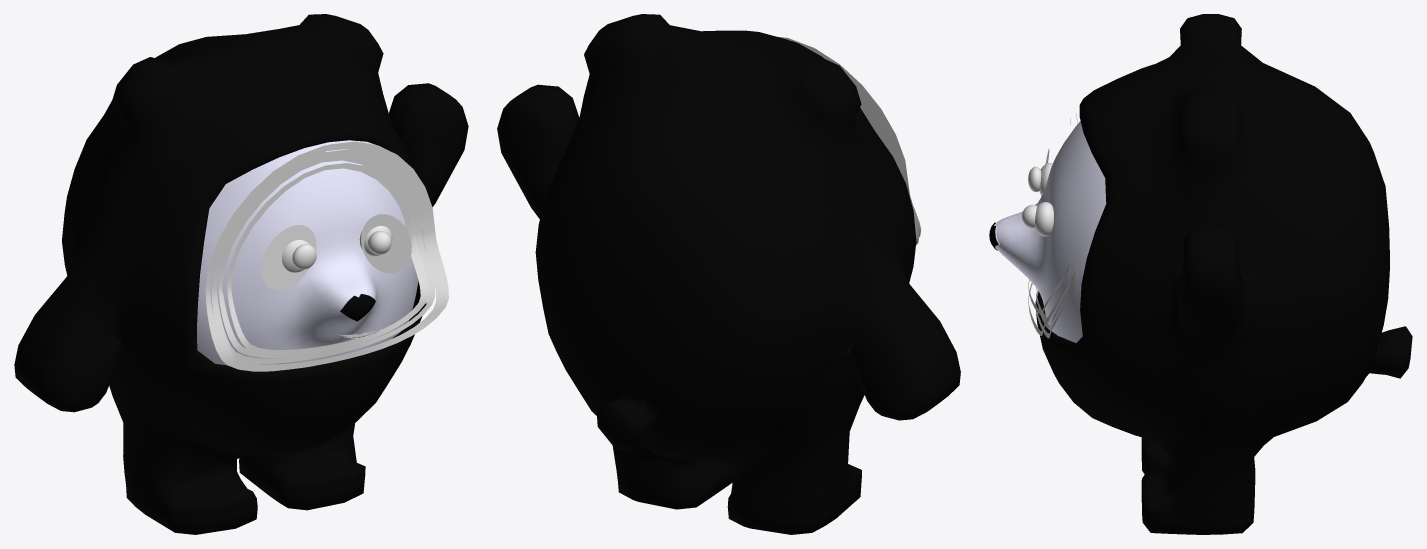
Rendered from 冰墩墩.FBX.
3 renders of one model, left to right at view 1: azimuth 30°, elevation 25°; view 2: azimuth 150°, elevation 25°; view 3: azimuth 270°, elevation 25°, orthographic. The views are drawn at different scales.
Parts seen in each view (by area): view 1: Rectangle004, Rectangle002, Donut005, Donut001, Donut002, Donut004, Donut003, Ellipse002, Ellipse001; view 2: Rectangle004, Donut005, Donut004; view 3: Rectangle004, Rectangle002, Sphere002.
Boxes of the visible parts, x1,y1,x2,y2 form: Rectangle004: [14, 14, 468, 534]; Rectangle002: [197, 140, 418, 365]; Donut005: [211, 141, 448, 370]; Donut001: [227, 163, 426, 354]; Donut002: [216, 149, 434, 363]; Donut004: [205, 145, 441, 371]; Donut003: [218, 155, 429, 357]; Ellipse002: [261, 225, 316, 289]; Ellipse001: [361, 214, 411, 273]; Rectangle004: [497, 14, 960, 534]; Donut005: [777, 36, 921, 236]; Donut004: [857, 89, 919, 244]; Rectangle004: [1035, 14, 1412, 534]; Rectangle002: [989, 121, 1106, 342]; Sphere002: [1034, 202, 1053, 236].
Size of the model in its own units: 608 by 621 by 539.
